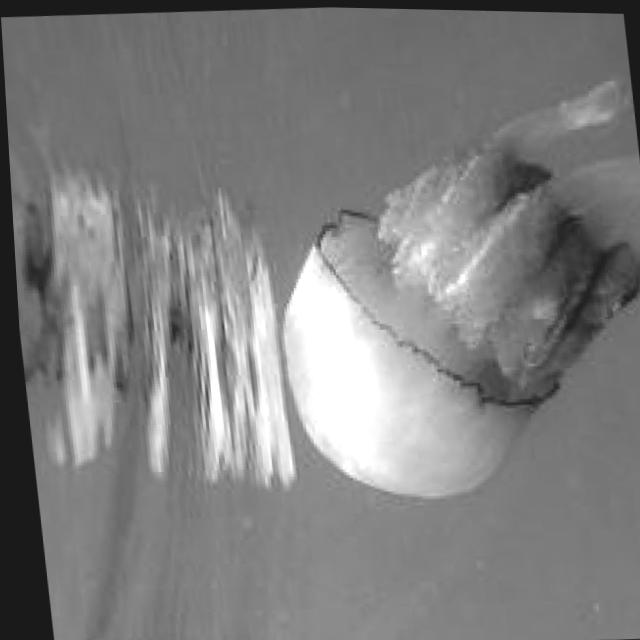Box-jellyfish: (248, 70, 640, 510)
